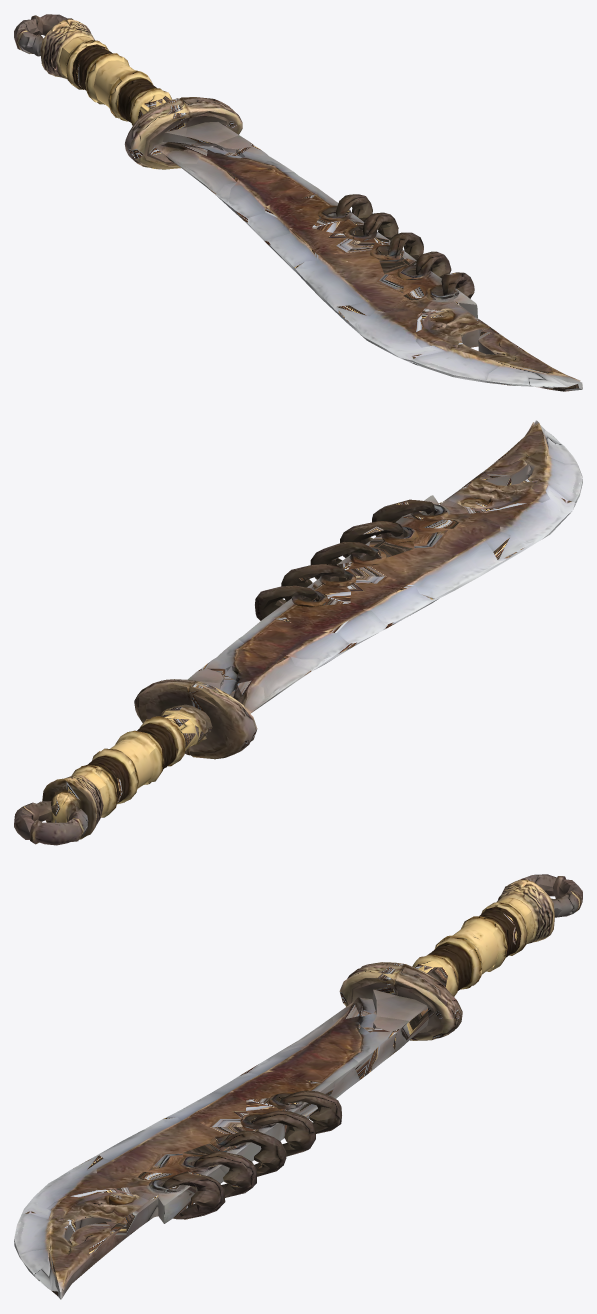
The model's file is yacha_sword_t0.ffde784f.glb.
3 renders of one model, top to bottom at view 1: azimuth 30°, elevation 25°; view 2: azimuth 150°, elevation 25°; view 3: azimuth 330°, elevation 25°, orthographic. The views are drawn at different scales.
Visible parts, largest first — view 1: tripo_node_94190291-b387-4357-9d2f-6fb8f349d0f9; view 2: tripo_node_94190291-b387-4357-9d2f-6fb8f349d0f9; view 3: tripo_node_94190291-b387-4357-9d2f-6fb8f349d0f9.
Part boxes in pixels (box(x1,y1,x2,y2)): tripo_node_94190291-b387-4357-9d2f-6fb8f349d0f9: box(14, 14, 582, 391); tripo_node_94190291-b387-4357-9d2f-6fb8f349d0f9: box(14, 420, 582, 845); tripo_node_94190291-b387-4357-9d2f-6fb8f349d0f9: box(14, 874, 582, 1299).
Size of the model in its own units: 0.2033 by 0.0933 by 1.28.
1 material, 1 textured.
